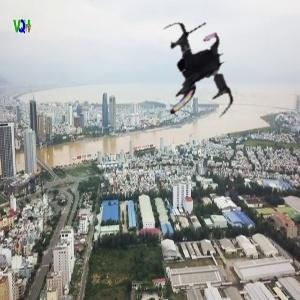drone: (134, 18, 247, 131)
